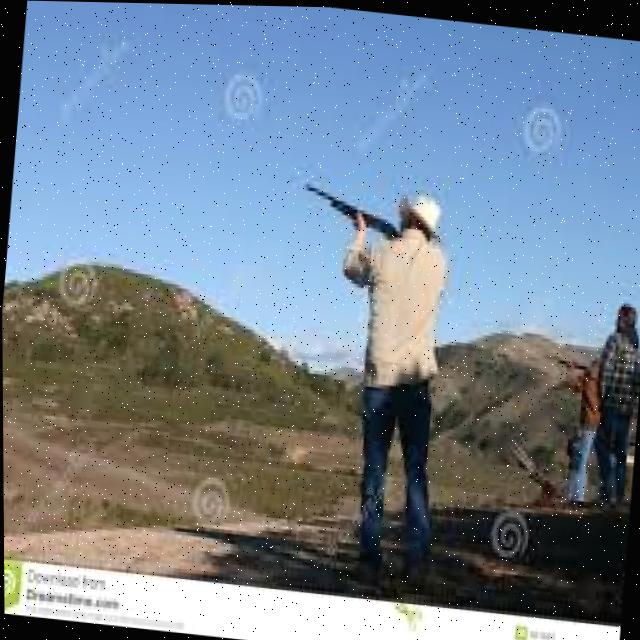firearm: (299, 177, 403, 240)
